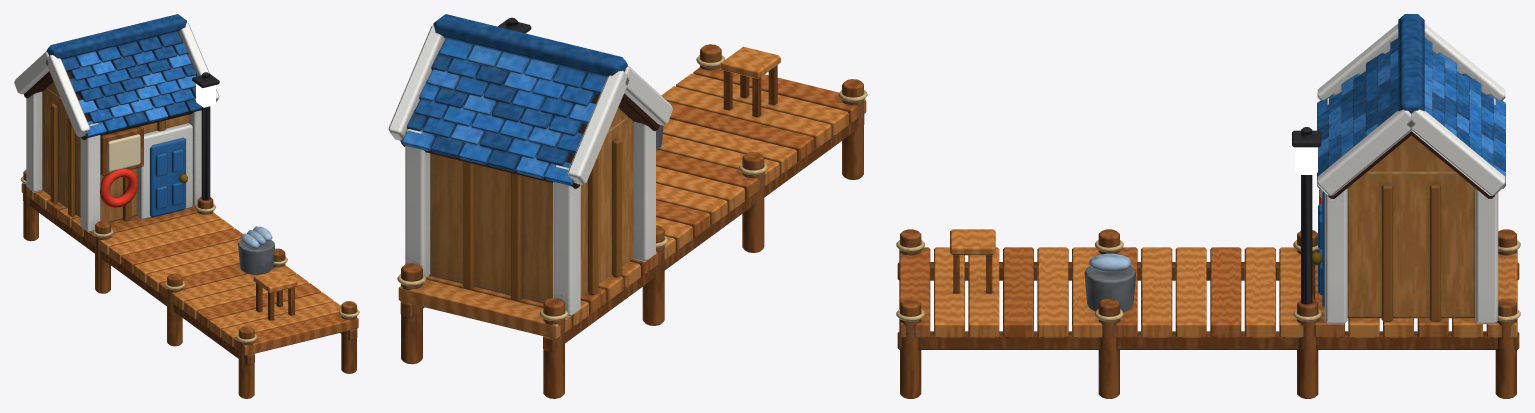
The model's file is fishing_pier.glb.
The picture shows the model from 3 angles, left to right: view 1: azimuth 30°, elevation 25°; view 2: azimuth 150°, elevation 25°; view 3: azimuth 270°, elevation 25°; orthographic projection. The views are drawn at different scales.
Parts seen in each view (by area): view 1: fishing_pier; view 2: fishing_pier; view 3: fishing_pier.
Boxes of the visible parts, <box> form: fishing_pier: <box>14,14,359,398</box>; fishing_pier: <box>388,14,867,398</box>; fishing_pier: <box>896,14,1520,398</box>.
Bounding box in the file's own units: 0.68 × 1.02 × 1.91.
1 material, 1 textured.
